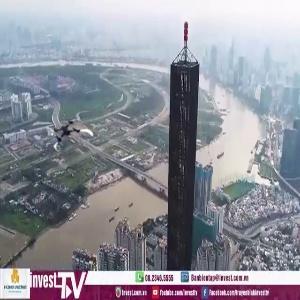drone: (48, 115, 90, 157)
